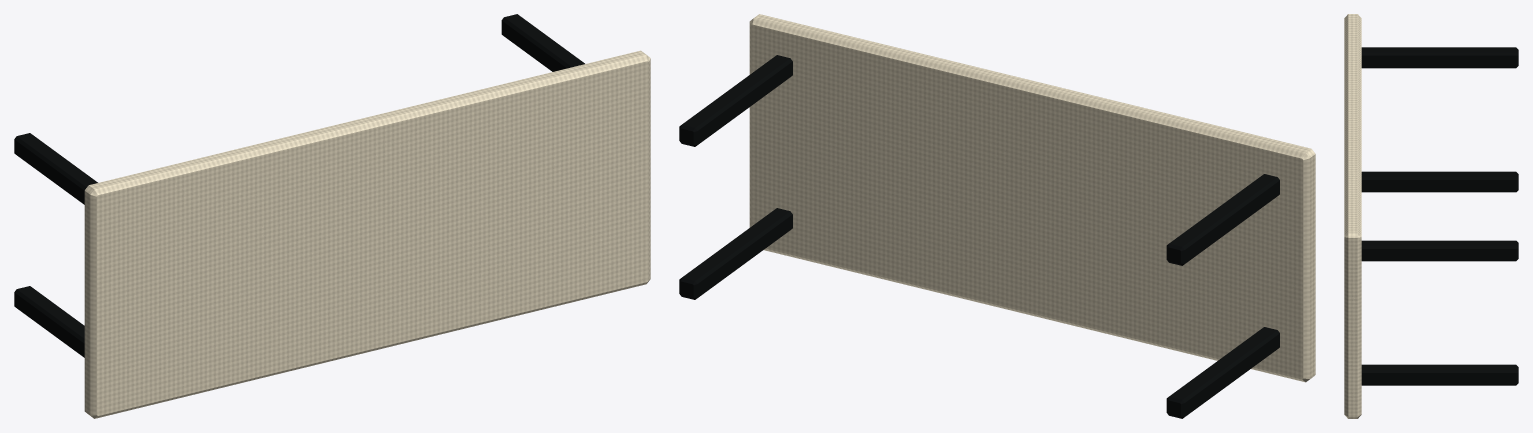
Rendered from garden_picnic_table.obj.
The picture shows the model from 3 angles, left to right: view 1: azimuth 30°, elevation 25°; view 2: azimuth 150°, elevation 25°; view 3: azimuth 270°, elevation 25°; orthographic projection. The views are drawn at different scales.
Parts seen in each view (by area): view 1: garden_picnic_table_linen, garden_picnic_table_frame; view 2: garden_picnic_table_linen, garden_picnic_table_frame; view 3: garden_picnic_table_frame, garden_picnic_table_linen.
Part boxes in pixels (x1,y1,x2,y2): garden_picnic_table_linen: [84, 50, 650, 418]; garden_picnic_table_frame: [14, 14, 584, 357]; garden_picnic_table_linen: [749, 14, 1315, 382]; garden_picnic_table_frame: [679, 55, 1279, 418]; garden_picnic_table_frame: [1361, 47, 1518, 385]; garden_picnic_table_linen: [1344, 14, 1361, 418].
Size of the model in its own units: 92 by 36 by 30.5.
Materials: 2 (2 with a texture image).
